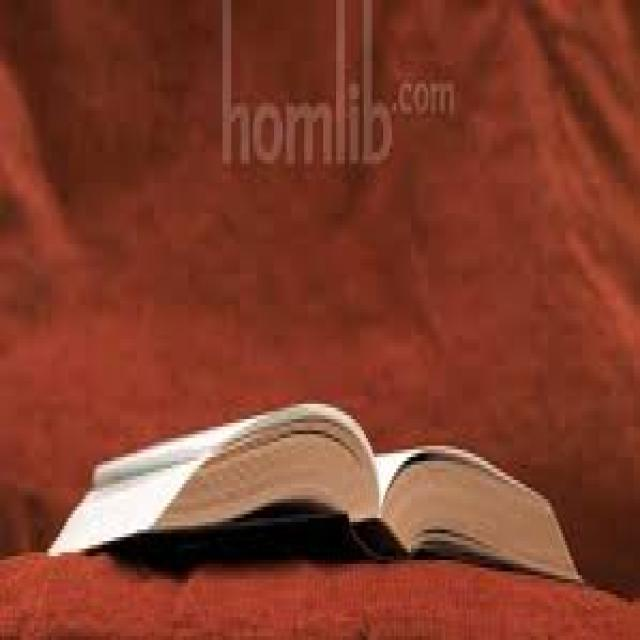book: (42, 385, 602, 604)
